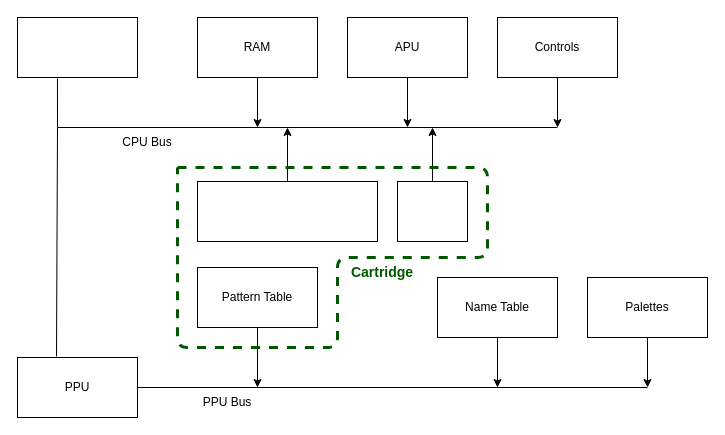
The diagram is 725 pixels wide and 435 high, and some of its shapes have lost their labels. The centre of each missing label's shape, as x and y in pixels:
"CPU 6502" goes at point (77, 47).
"Mapper" goes at point (432, 211).
"Program ROM" goes at point (287, 211).
